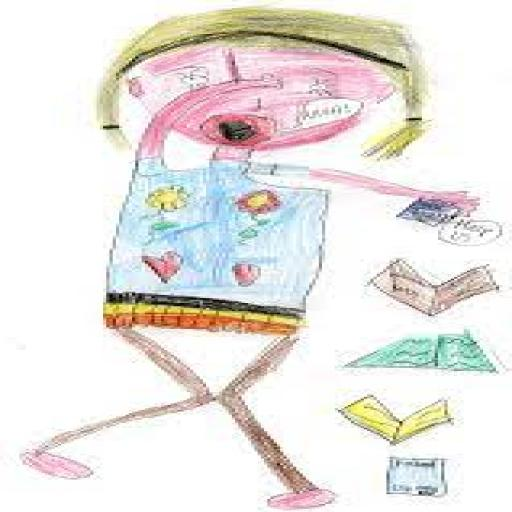person: (0, 0, 451, 512)
